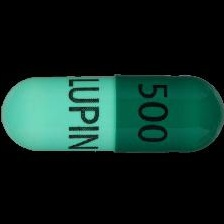67296-0320: (0, 0, 224, 224)
